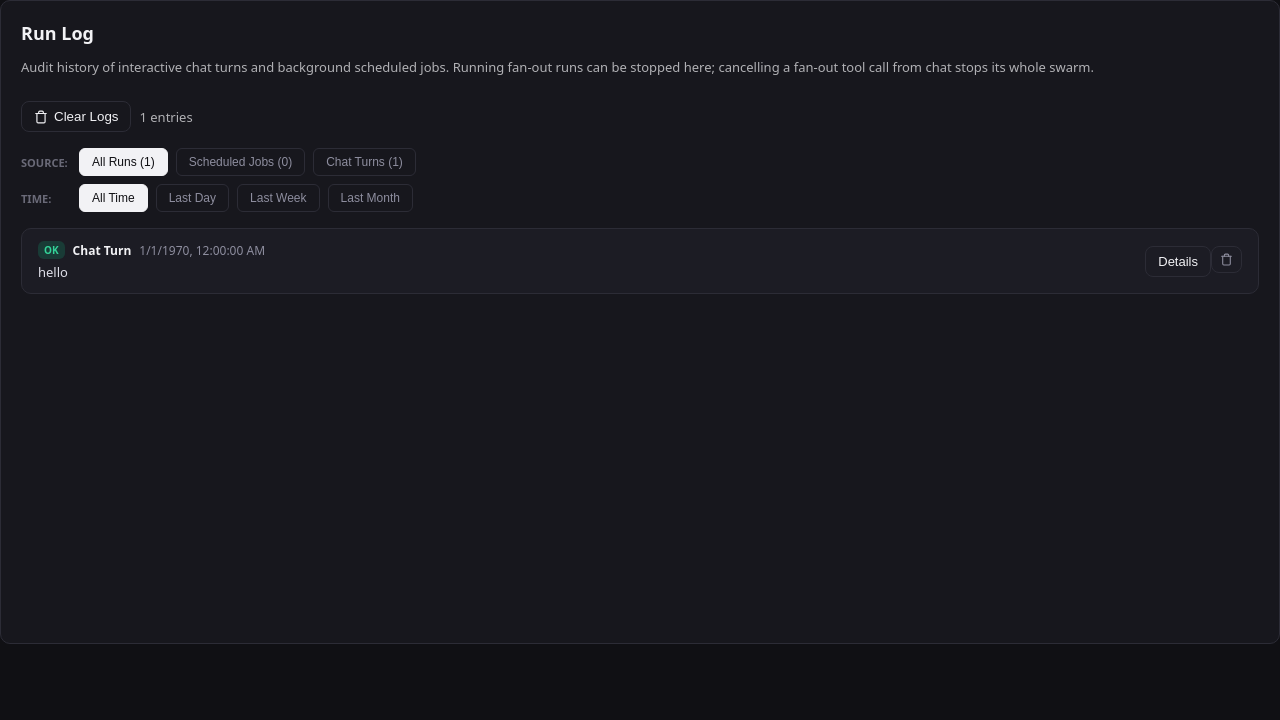
RunLogViewer › deletes an individual run entry through the shared modal
The width and height of the screenshot is (1280, 720).
Expected: the text "hello" is shown, [38,263,68,281]
// Trash stages a confirmation instead of deleting immediately.
Click the button named "Delete run" at [1226, 259], box [1211,246,1242,272]
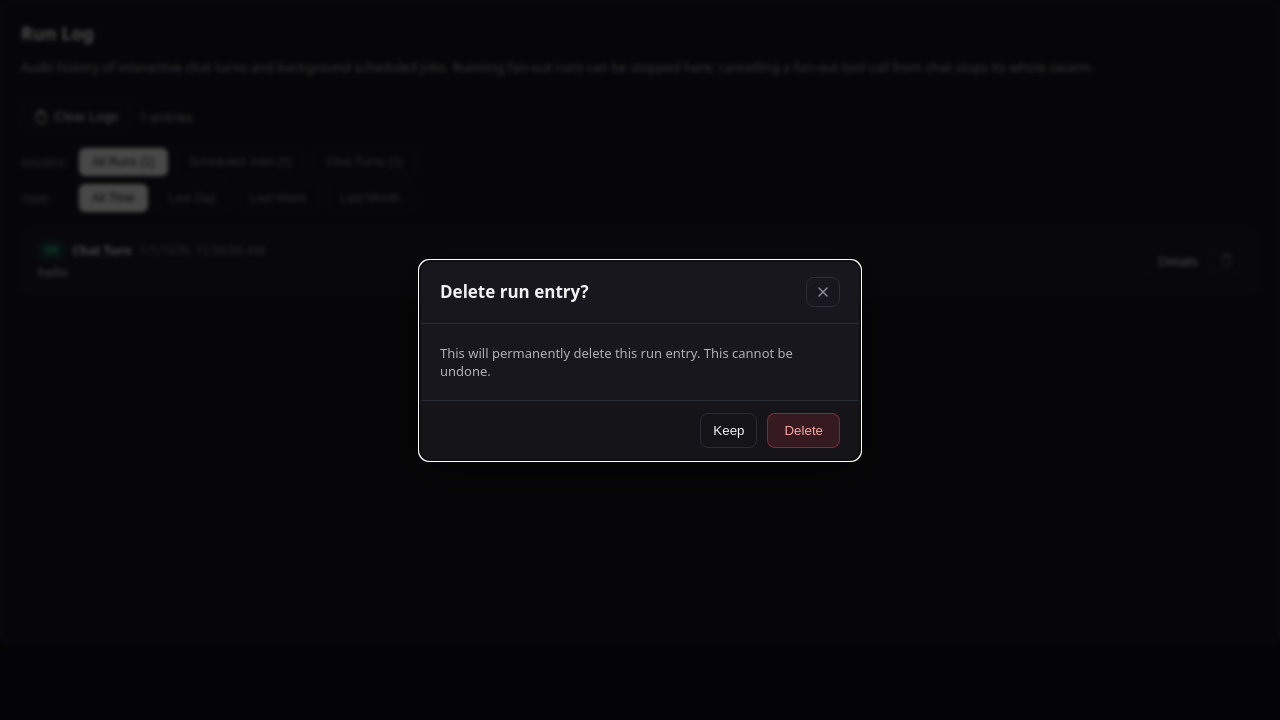
Result: the dialog named "Confirm delete run" is shown
// Keep dismisses without a request.
Click the button "Keep" at [729, 430], box [700,412,757,448]
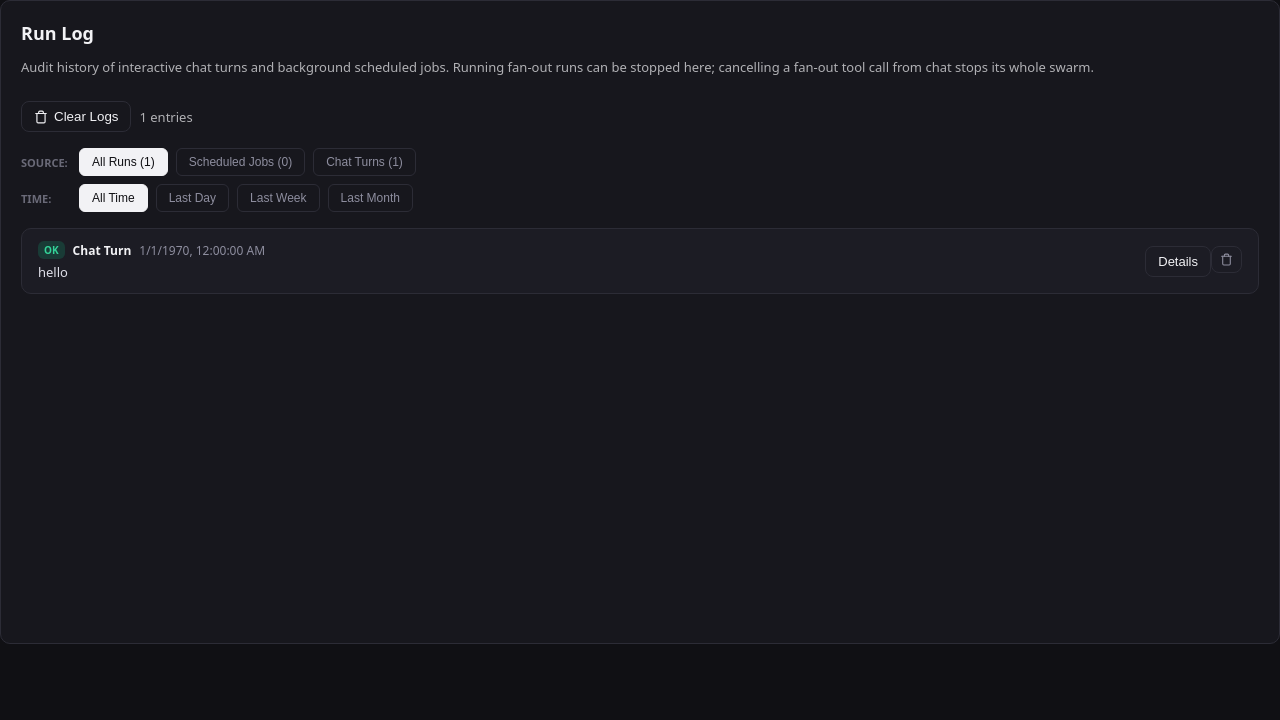
Expected: the text "hello" is shown, [38,263,68,281]
// Delete confirms the persisted removal and clears the entry.
Click the button named "Delete run" at [1226, 259], box [1211,246,1242,272]
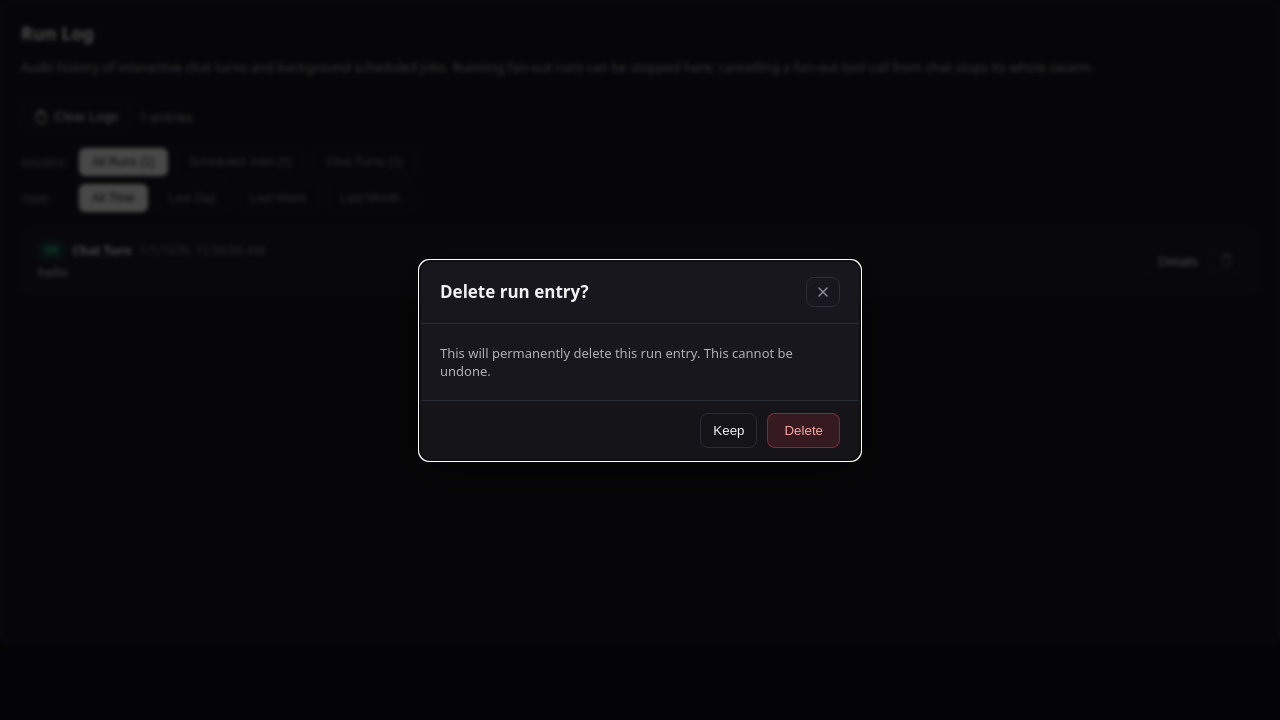
Click the button with aria-label "Confirm delete run" at [804, 430], box [768,412,840,448]
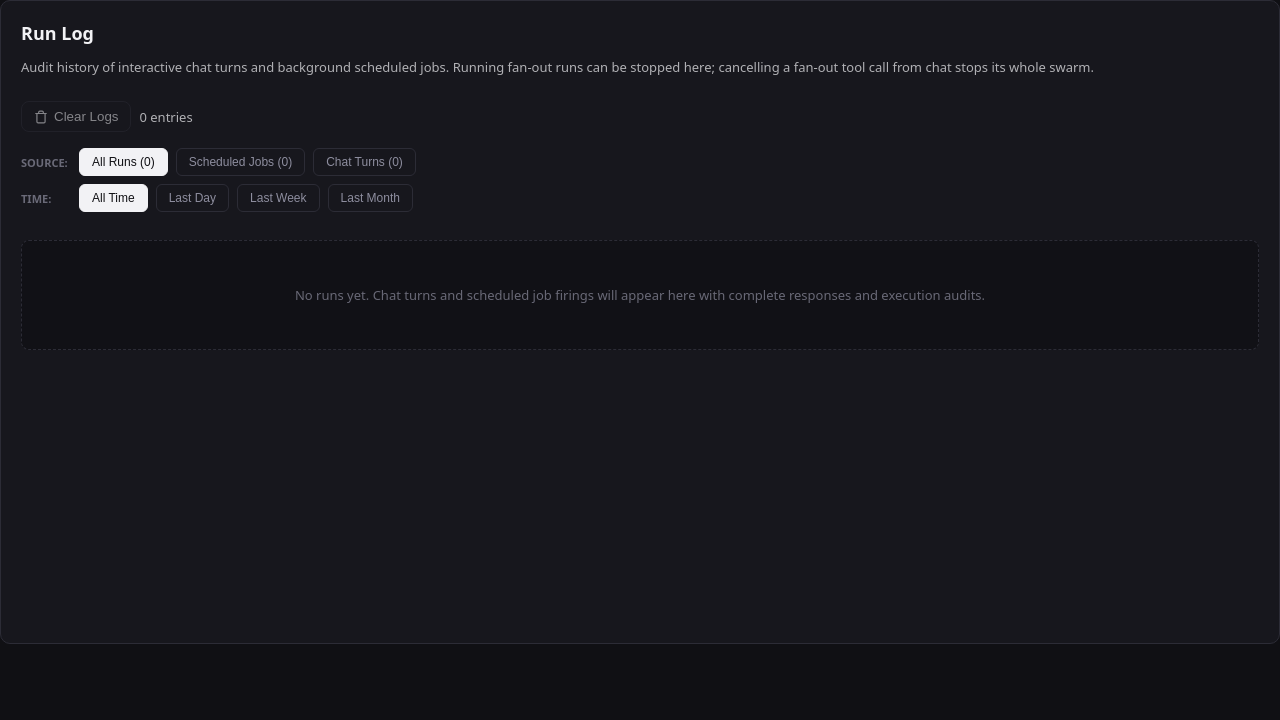
Result: the text "hello" is gone
